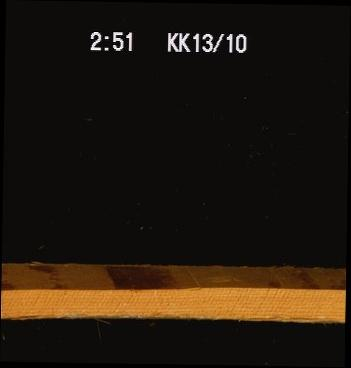wave: (1, 264, 345, 292)
